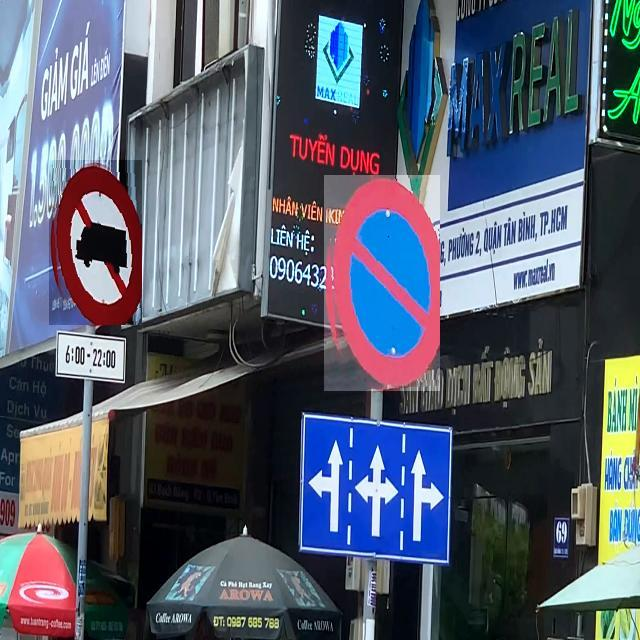P-106a: (49, 160, 142, 325)
P-131a: (324, 175, 440, 391)
